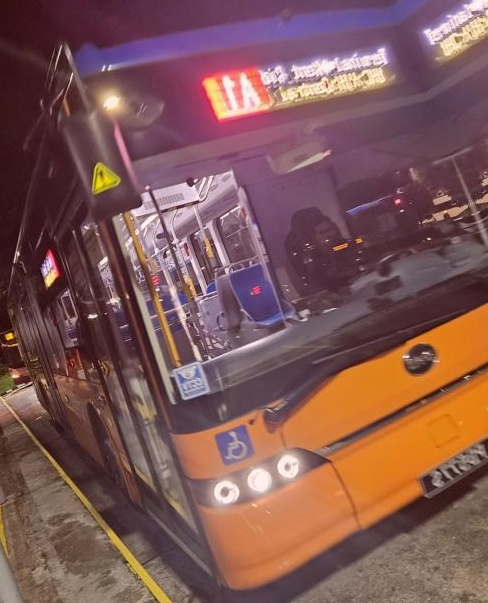bus: (198, 64, 269, 120)
